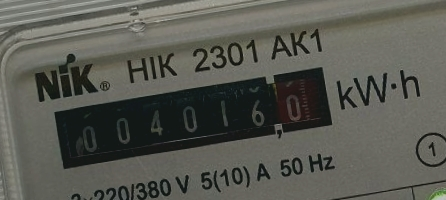0: (177, 100, 203, 137), (76, 120, 102, 156), (280, 89, 305, 124), (111, 112, 134, 148)
1: (214, 94, 234, 130)
4: (144, 104, 167, 140)
6: (244, 94, 268, 128)
screen: (45, 58, 342, 178)
